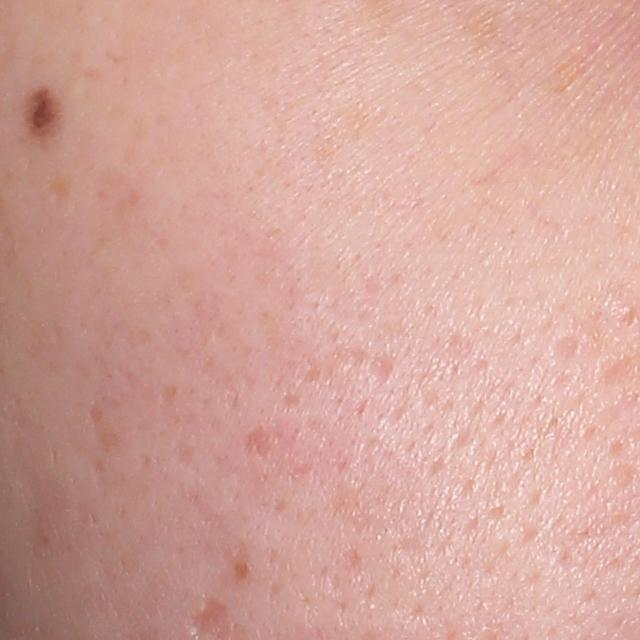atrophic_scar: (599, 361, 637, 389), (238, 427, 273, 457)
